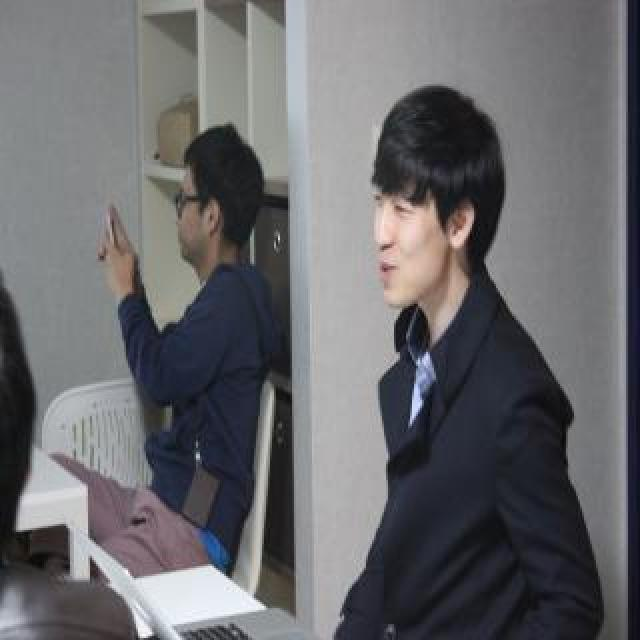laptop_computer: (64, 512, 370, 640)
smart phone: (84, 191, 150, 279)
